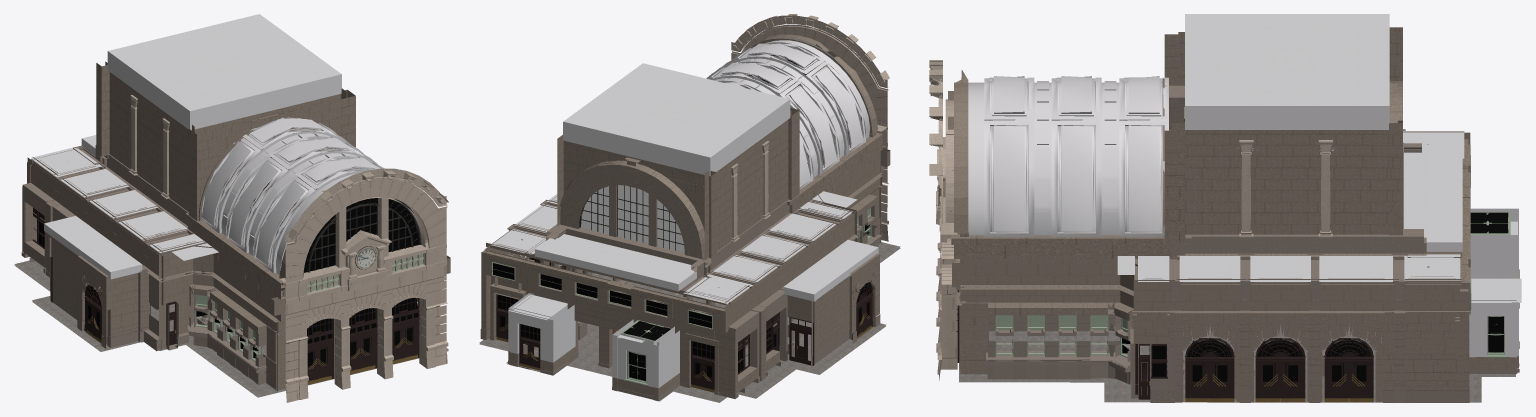
File: hall.glb
3 views of the same model, side by side, from view 1: azimuth 30°, elevation 25°; view 2: azimuth 150°, elevation 25°; view 3: azimuth 270°, elevation 25° (orthographic). The views are drawn at different scales.
Visible parts, largest first — view 1: Object_9, Object_6, Object_4, Object_36, Object_25, Object_7, Object_33, Object_34, Object_13, Object_19, Object_27, Object_10 (+5 smaller); view 2: Object_9, Object_6, Object_4, Object_7, Object_13, Object_23, Object_33, Object_26, Object_34, Object_8, Object_36, Object_25 (+6 smaller); view 3: Object_9, Object_6, Object_4, Object_7, Object_33, Object_13, Object_25, Object_36, Object_34, Object_8, Object_22, Object_10 (+5 smaller).
Boxes of the visible parts, bbox=[...] form: Object_9: bbox=[22, 61, 450, 390]; Object_6: bbox=[31, 117, 417, 279]; Object_4: bbox=[107, 14, 341, 130]; Object_36: bbox=[285, 177, 448, 402]; Object_25: bbox=[128, 95, 448, 399]; Object_7: bbox=[22, 114, 443, 381]; Object_33: bbox=[32, 157, 420, 381]; Object_34: bbox=[49, 168, 419, 367]; Object_13: bbox=[14, 201, 448, 397]; Object_19: bbox=[23, 200, 298, 390]; Object_27: bbox=[305, 198, 421, 272]; Object_10: bbox=[91, 192, 424, 361]; Object_9: bbox=[481, 34, 890, 397]; Object_6: bbox=[491, 37, 878, 388]; Object_4: bbox=[563, 63, 790, 176]; Object_7: bbox=[488, 55, 883, 401]; Object_13: bbox=[479, 230, 900, 402]; Object_23: bbox=[560, 157, 794, 341]; Object_33: bbox=[496, 208, 873, 389]; Object_26: bbox=[581, 185, 684, 252]; Object_34: bbox=[493, 55, 871, 380]; Object_8: bbox=[480, 192, 858, 398]; Object_36: bbox=[731, 24, 888, 241]; Object_25: bbox=[622, 14, 889, 242]; Object_9: bbox=[951, 27, 1519, 402]; Object_6: bbox=[968, 76, 1521, 357]; Object_4: bbox=[1185, 14, 1389, 129]; Object_7: bbox=[952, 78, 1517, 376]; Object_33: bbox=[957, 290, 1373, 399]; Object_13: bbox=[959, 276, 1515, 402]; Object_25: bbox=[929, 60, 1332, 374]; Object_36: bbox=[937, 81, 957, 380]; Object_34: bbox=[1187, 316, 1503, 381]; Object_8: bbox=[994, 278, 1519, 402]; Object_22: bbox=[1170, 310, 1405, 402]; Object_10: bbox=[945, 155, 1519, 357].
Bounding box in the file's own units: 24.69 × 17.18 × 33.89.
Materials: 29 (24 with a texture image).
